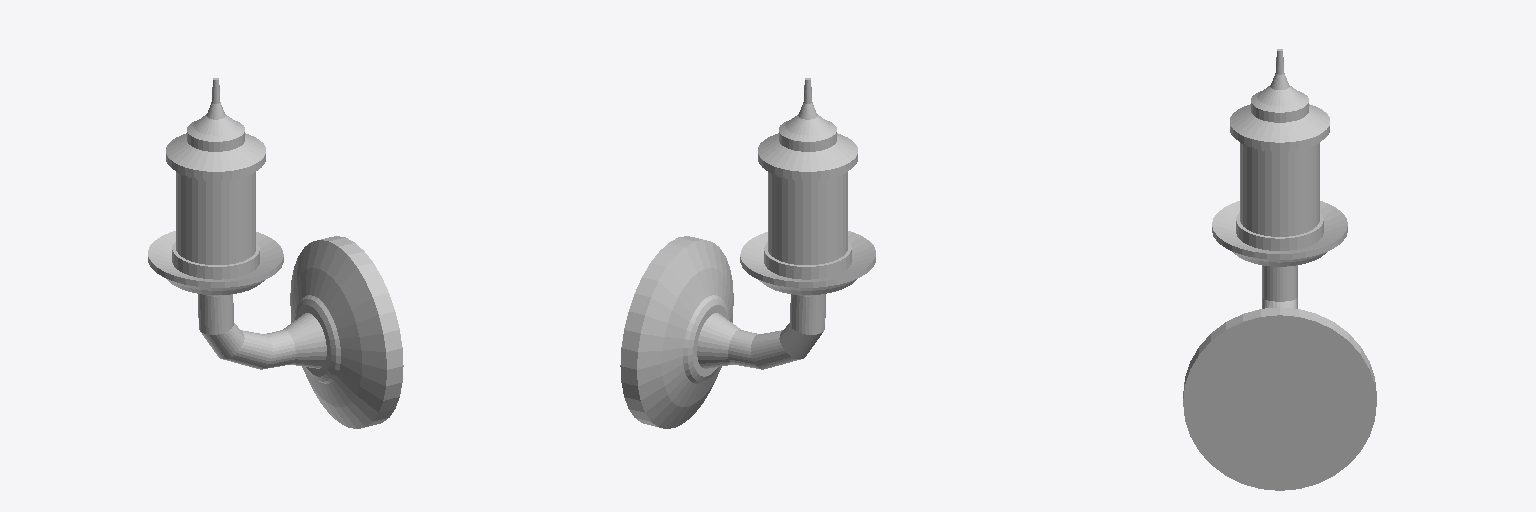
File: lamp.obj
3 renders of one model, left to right at view 1: azimuth 30°, elevation 25°; view 2: azimuth 150°, elevation 25°; view 3: azimuth 270°, elevation 25°, orthographic.
Visible parts, largest first — view 1: Cylinder, Cylinder.001, Cylinder.002; view 2: Cylinder, Cylinder.001, Cylinder.002; view 3: Cylinder, Cylinder.001, Cylinder.002.
Boxes of the visible parts, <box> form: Cylinder: <box>148,231,403,428</box>; Cylinder.001: <box>176,172,255,264</box>; Cylinder.002: <box>166,78,265,180</box>; Cylinder: <box>620,231,875,428</box>; Cylinder.001: <box>768,172,847,264</box>; Cylinder.002: <box>758,78,857,180</box>; Cylinder: <box>1183,201,1376,490</box>; Cylinder.001: <box>1240,143,1319,236</box>; Cylinder.002: <box>1230,49,1329,151</box>.
Bounding box in the file's own units: 2.36 × 4.25 × 2.